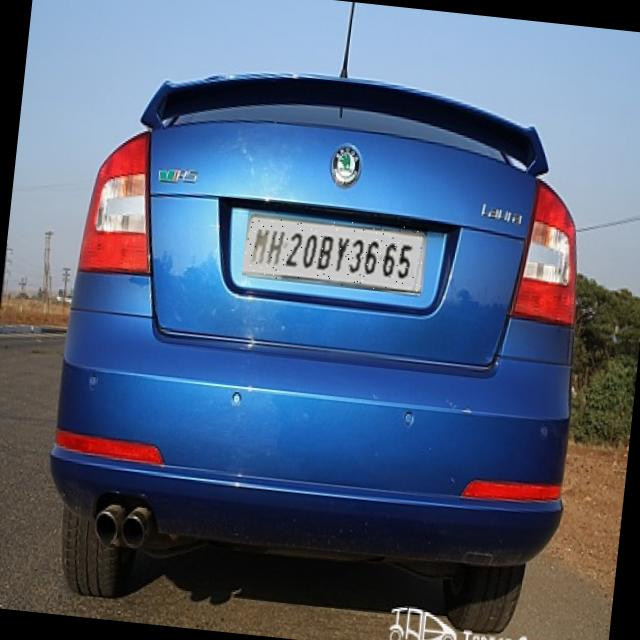Plate: (243, 210, 429, 294)
